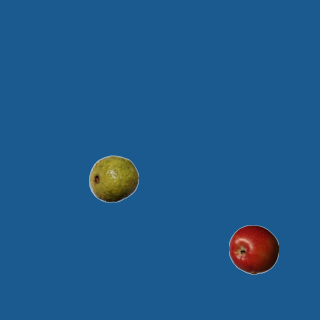Apple Braeburn: (228, 224, 278, 274)
Guava: (88, 153, 138, 203)
